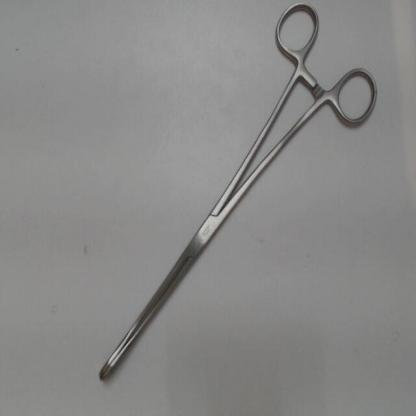Sponge Forceps: (93, 0, 384, 388)
